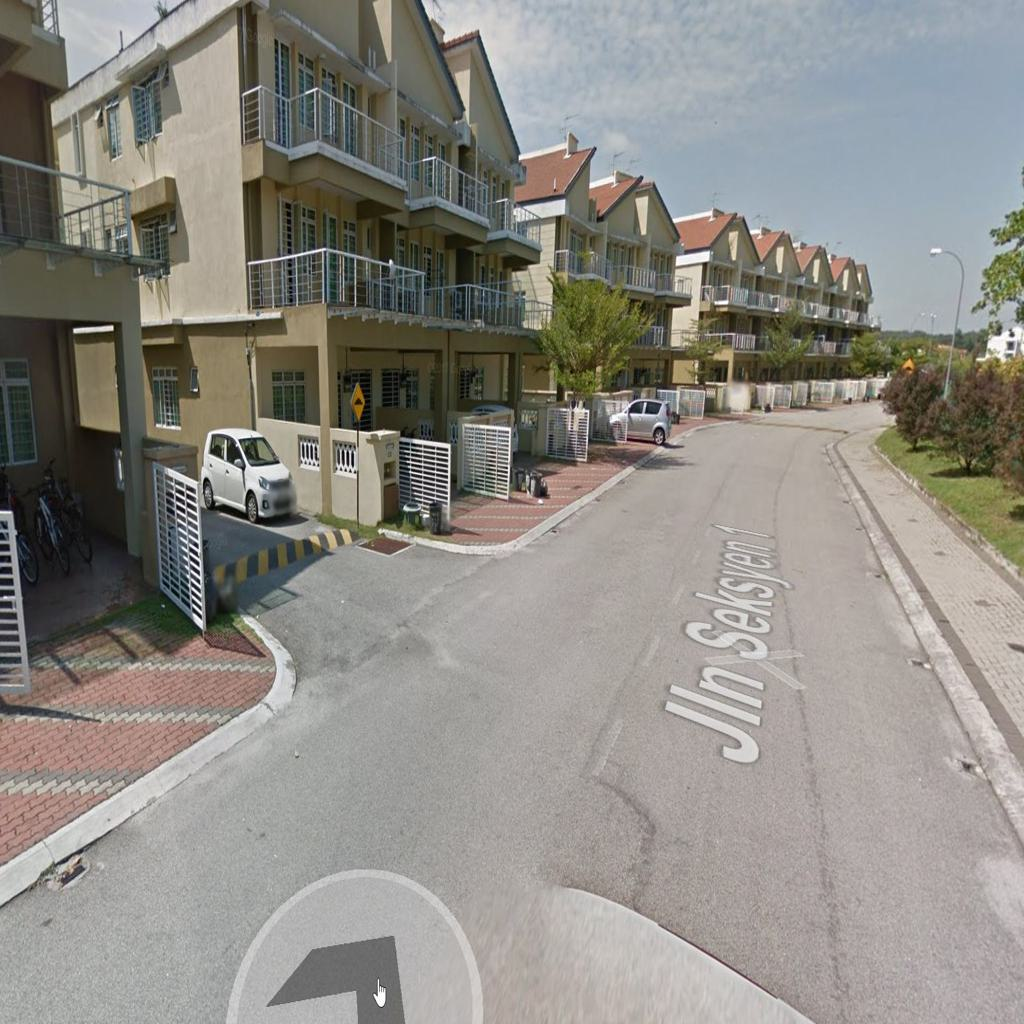Junction: (196, 462, 494, 728)
